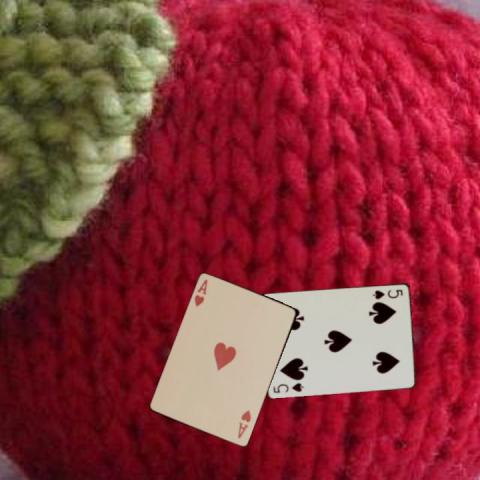5s: (270, 380, 305, 395), (369, 286, 404, 300)
Ah: (235, 407, 253, 440), (192, 277, 210, 308)
